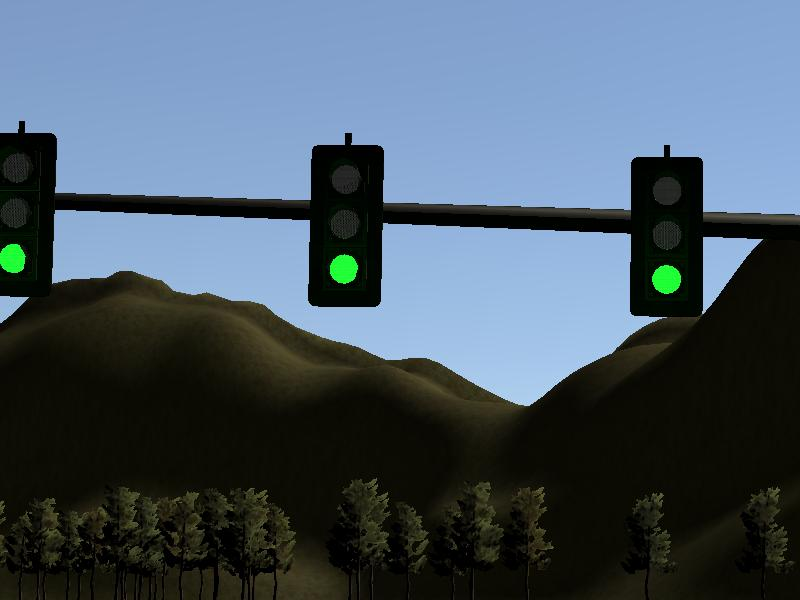not_red: (310, 145, 384, 310), (630, 156, 700, 315), (1, 134, 53, 297)
